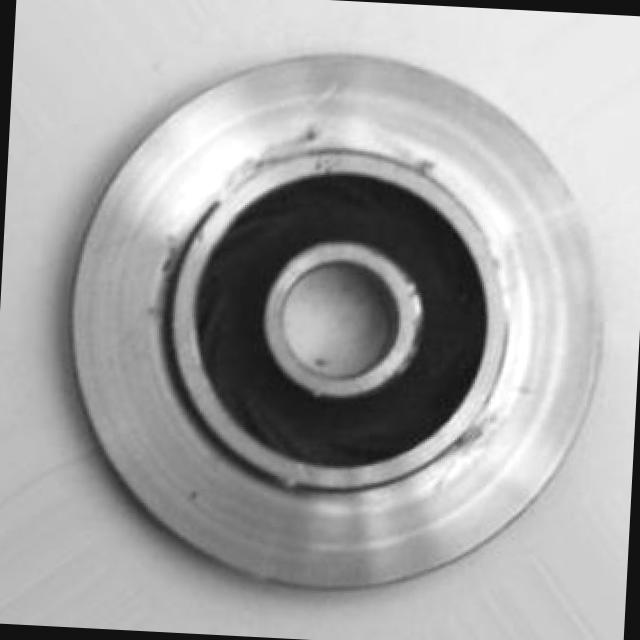Defect: (407, 148, 452, 183)
